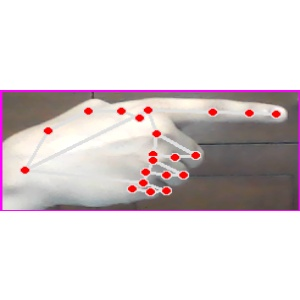G: (1, 90, 300, 212)
